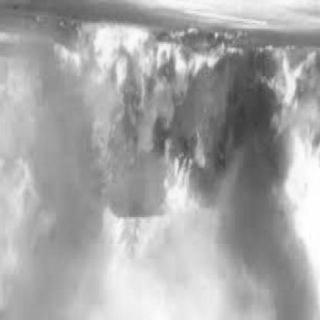Fire: (47, 18, 320, 246)
